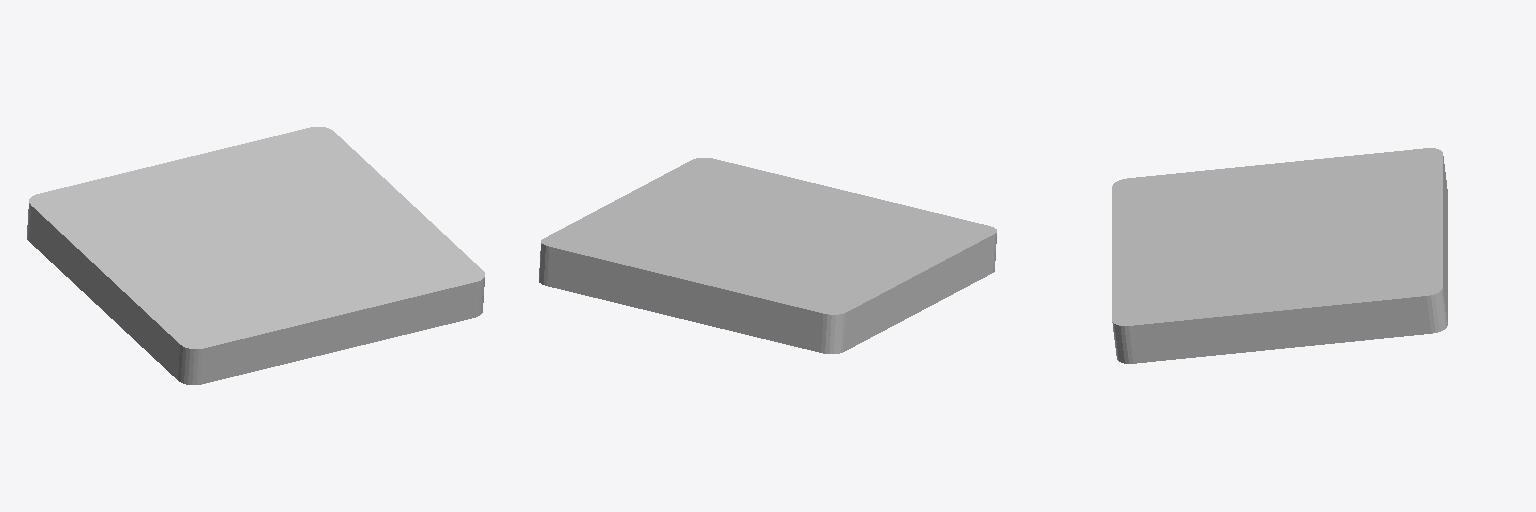
Rendered from original-65.obj.
The picture shows the model from 3 angles: view 1: azimuth 30°, elevation 25°; view 2: azimuth 150°, elevation 25°; view 3: azimuth 270°, elevation 25°; orthographic projection.
Visible parts, largest first — view 1: mesh64/mesh64-geometry#mesh64-geometry; view 2: mesh64/mesh64-geometry#mesh64-geometry; view 3: mesh64/mesh64-geometry#mesh64-geometry.
Boxes of the visible parts, x1=… form: mesh64/mesh64-geometry#mesh64-geometry: x1=27, y1=127, x2=484, y2=384; mesh64/mesh64-geometry#mesh64-geometry: x1=539, y1=158, x2=996, y2=353; mesh64/mesh64-geometry#mesh64-geometry: x1=1112, y1=148, x2=1447, y2=363.
Size of the model in its own units: 0.1061 by 0.0238 by 0.1019.